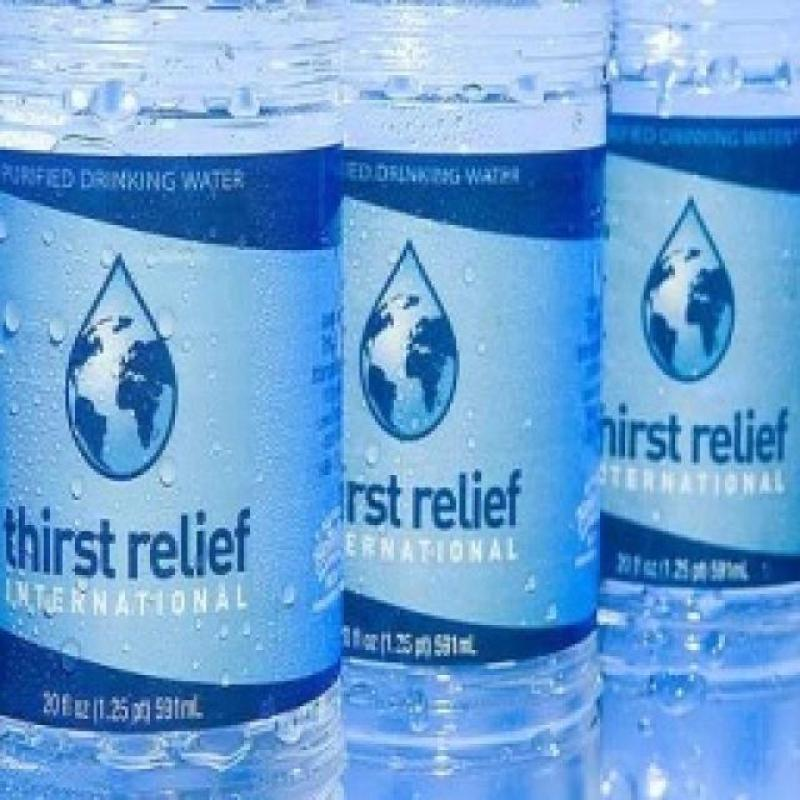botella: (0, 0, 344, 800), (342, 0, 608, 800), (609, 0, 800, 800)
